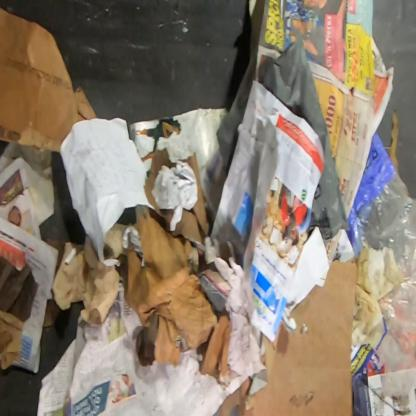cardboard: (212, 258, 357, 415), (126, 204, 244, 387), (0, 7, 98, 153), (143, 148, 213, 252)
soft_plastic: (260, 34, 350, 242), (348, 131, 415, 398), (351, 249, 403, 349), (216, 87, 250, 175)
